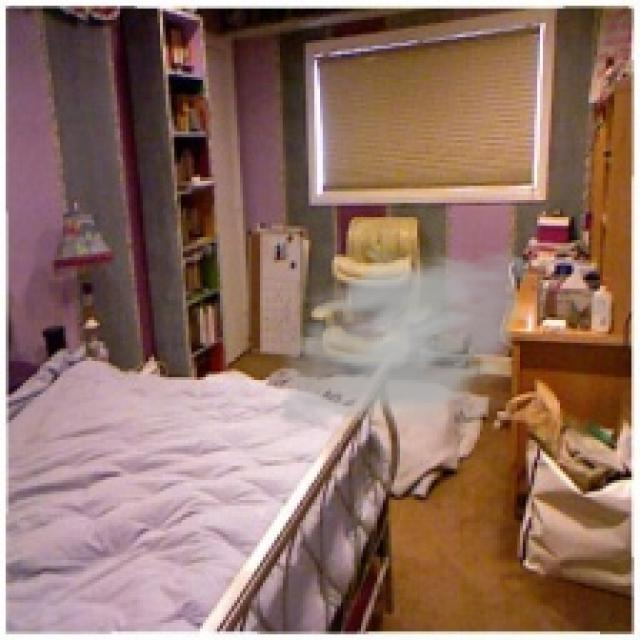Smoke: (269, 237, 540, 446)
